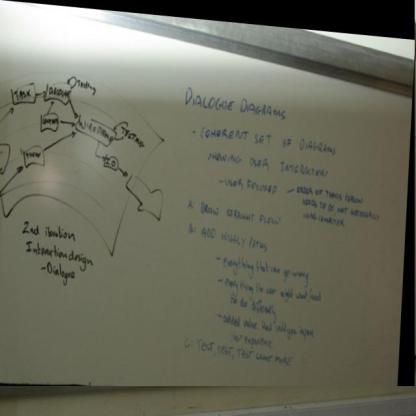Handwritten text: (195, 120, 346, 161), (177, 82, 294, 126), (217, 269, 326, 311), (200, 147, 336, 180), (295, 182, 381, 231), (209, 252, 319, 290), (191, 219, 278, 259), (214, 310, 319, 343), (194, 197, 287, 233), (218, 290, 285, 323), (218, 170, 285, 199), (223, 328, 282, 349), (45, 259, 76, 290), (39, 220, 79, 240)
